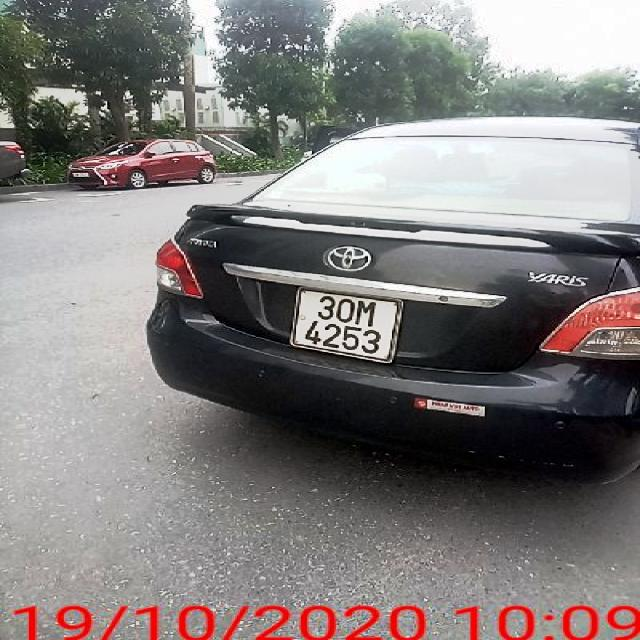license_plate: (295, 285, 401, 360)
